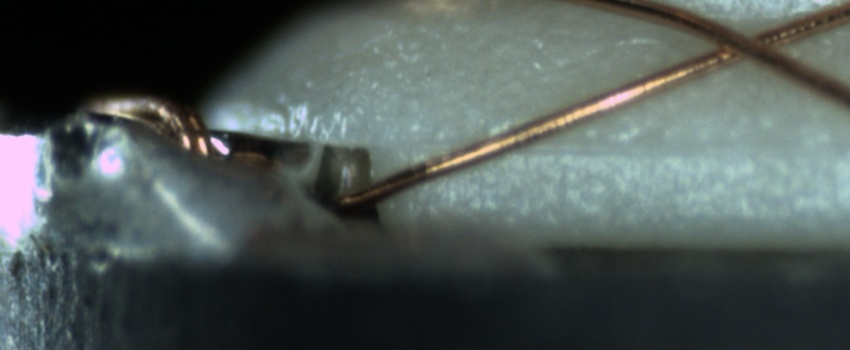CL: (689, 12, 797, 73)
DL: (397, 118, 850, 182)
TE: (83, 89, 223, 168)
